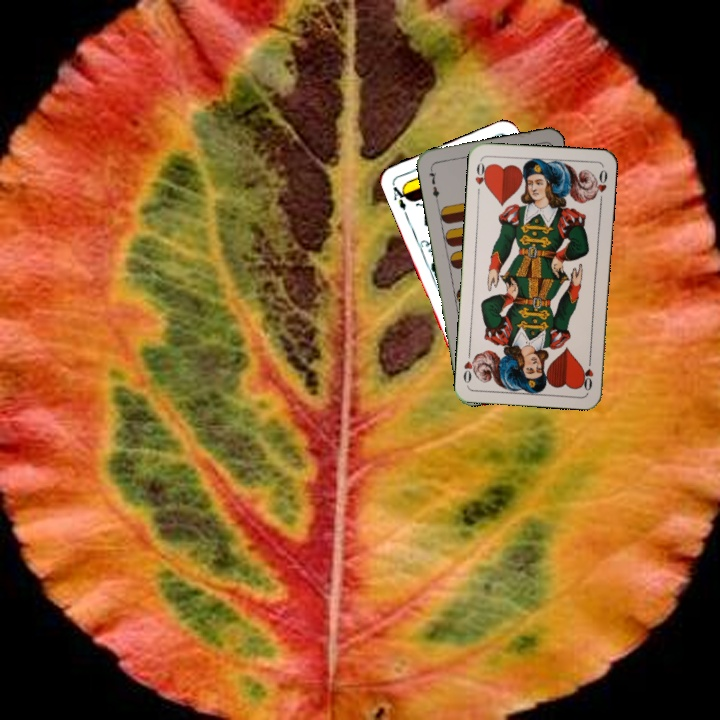E7: (425, 164, 442, 204)
EA: (388, 180, 412, 213)
HO: (471, 157, 491, 198), (579, 353, 596, 393)
